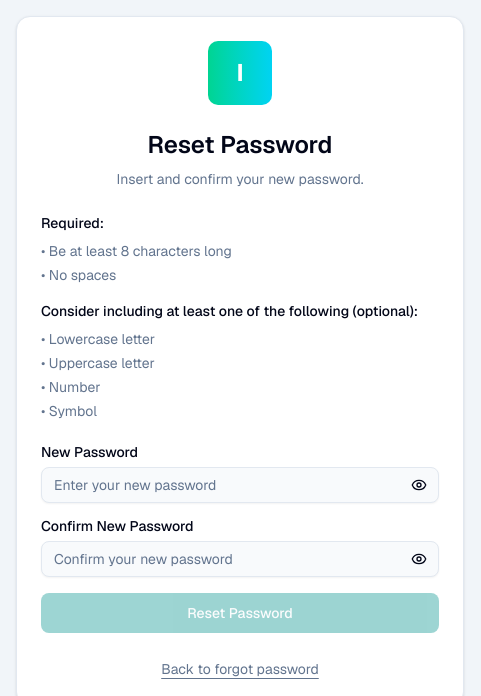
Scenario: ResetPasswordPage › enables submit button when both passwords are provided
Expected: the button "Reset Password" is disabled, [41,593,439,633]
Type "password123" into the password field labelled "New Password" at {"x": 240, "y": 485}, box [41,467,439,503]
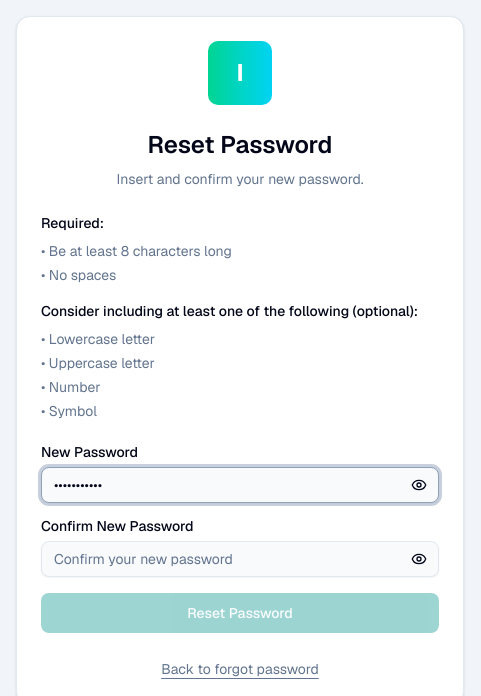
Type "password123" into the password field labelled "Confirm New Password" at {"x": 240, "y": 559}, box [41,541,439,577]
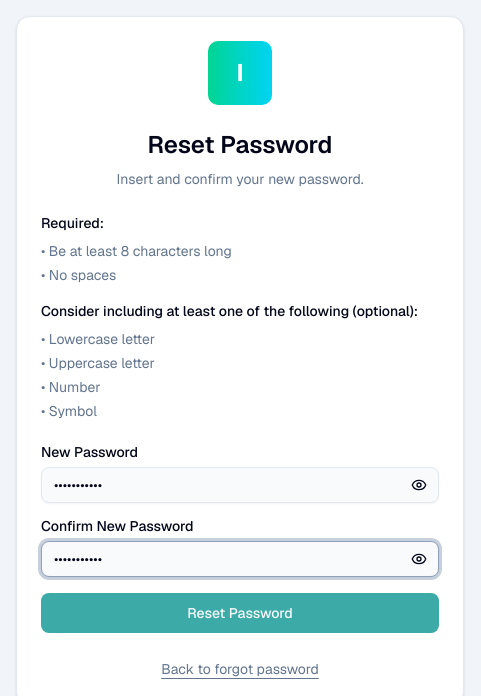
Expected: the button "Reset Password" is enabled, [41,593,439,633]
